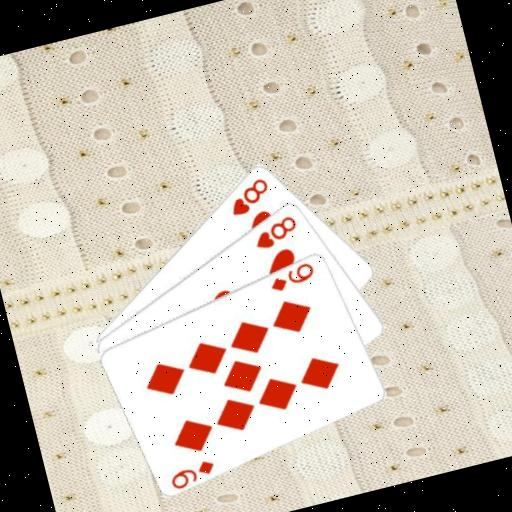8H: (223, 173, 276, 220), (247, 211, 302, 253)
9D: (264, 258, 319, 295), (164, 455, 219, 492)
